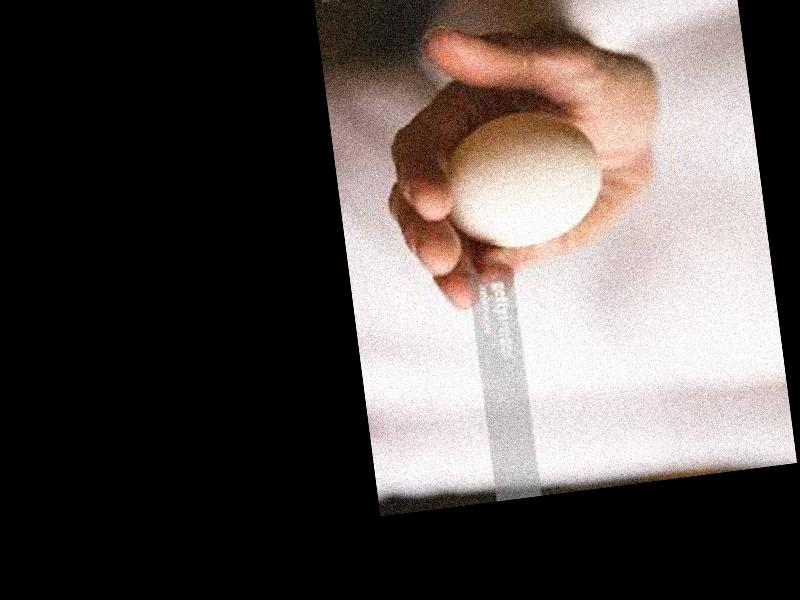Eggs: (438, 101, 607, 254)
